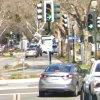traffic lights: (36, 2, 44, 22), (45, 2, 52, 23)
